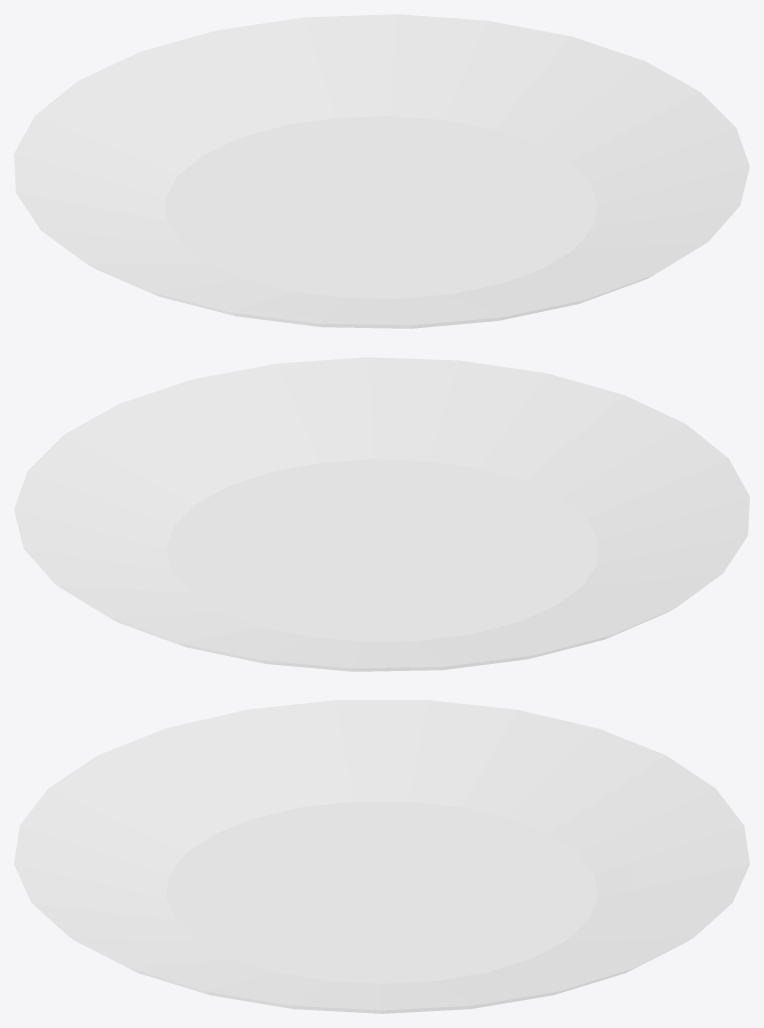
File: Dish 1.FBX
The picture shows the model from 3 angles, top to bottom: view 1: azimuth 30°, elevation 25°; view 2: azimuth 150°, elevation 25°; view 3: azimuth 270°, elevation 25°; orthographic projection.
Visible parts, largest first — view 1: Dish 1; view 2: Dish 1; view 3: Dish 1.
Part boxes in pixels (<box>): Dish 1: <box>14,14,749,328</box>; Dish 1: <box>14,357,749,671</box>; Dish 1: <box>14,700,749,1013</box>.
Bounding box in the file's own units: 18.66 × 1.88 × 18.7.
Materials: 1 (1 with a texture image).
